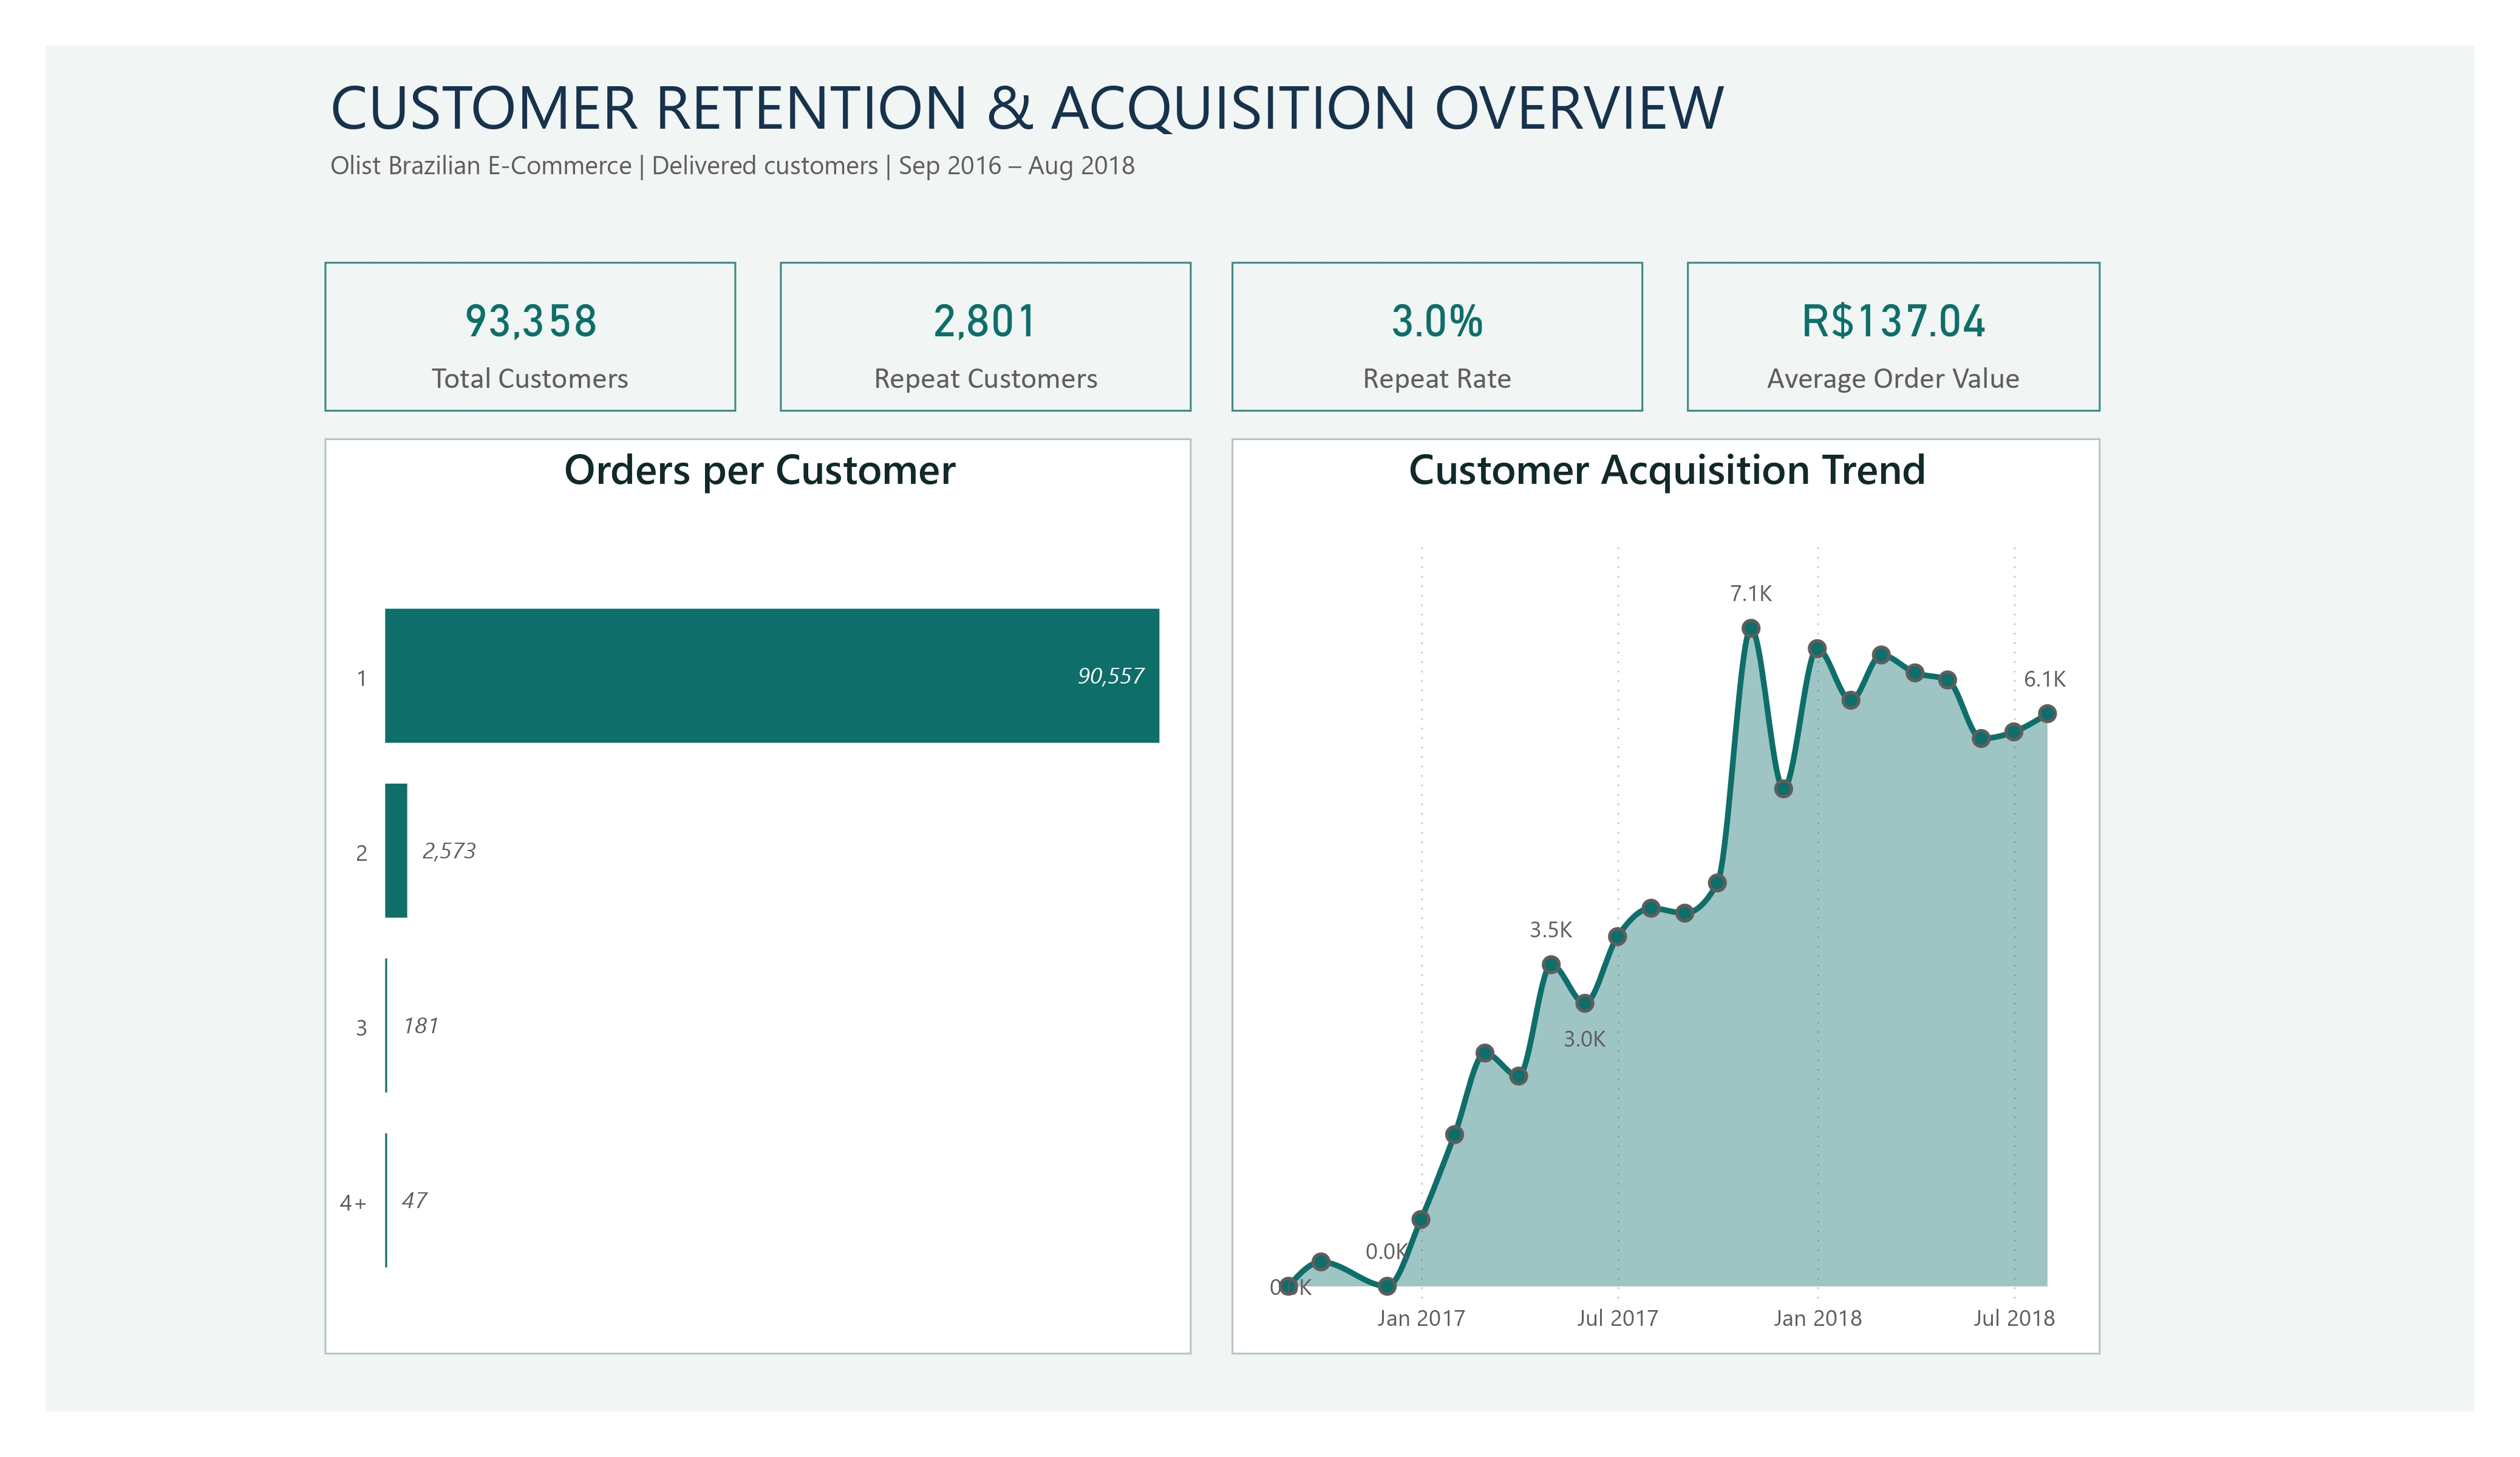

The dashboard page shown, as its layout file describes it:
{"tool":"powerbi","page":{"name":"Overview","canvas":[1280,720],"ordinal":1},"visuals":[{"type":"card","fields":{"Values":["measure.cohort_size"]},"box":[147.2,114.3,217.2,78.9],"z":0},{"type":"card","fields":{"Values":["measure.repeat_customers"]},"box":[386.6,114.3,217.2,78.9],"z":1000},{"type":"card","fields":{"Values":["measure.repeat_rate"]},"box":[625.1,114.3,217.2,78.9],"z":2000},{"type":"card","fields":{"Values":["measure.average_order_value"]},"box":[865.4,114.3,217.2,78.9],"z":3000},{"type":"clusteredBarChart","title":"Orders per Customer","fields":{"Category":["customers.order_count_group"],"Y":["CountNonNull(customers.customer_unique_id)"]},"box":[147.3,207.3,456.4,482.7],"z":4000},{"type":"lineChart","title":"Customer Acquisition Trend","fields":{"Y":["CountNonNull(customers.customer_unique_id)"],"Category":["customers.first_purchase_date.Variation.Date Hierarchy.Year","customers.first_purchase_date.Variation.Date Hierarchy.Month"]},"box":[625.5,207.3,457.3,482.7],"z":5000},{"type":"textbox","title":"CUSTOMER RETENTION & ACQUISITION OVERVIEW","box":[144.5,9.1,848.6,70.9],"z":6000}]}

Visuals, with their boxes on the page's 1280x720 design canvas (x1, y1, x2, y2). These are canvas units, not pixel positions in the 2520x1457 screenshot, which may show the page scaled, cropped or inside an application window:
card - measure.cohort_size: region(147, 114, 364, 193)
card - measure.repeat_customers: region(387, 114, 604, 193)
card - measure.repeat_rate: region(625, 114, 842, 193)
card - measure.average_order_value: region(865, 114, 1083, 193)
"Orders per Customer" clusteredBarChart: region(147, 207, 604, 690)
"Customer Acquisition Trend" lineChart: region(626, 207, 1083, 690)
"CUSTOMER RETENTION & ACQUISITION OVERVIEW" textbox: region(144, 9, 993, 80)
